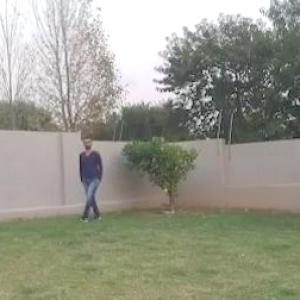follow: (80, 138, 101, 222)
